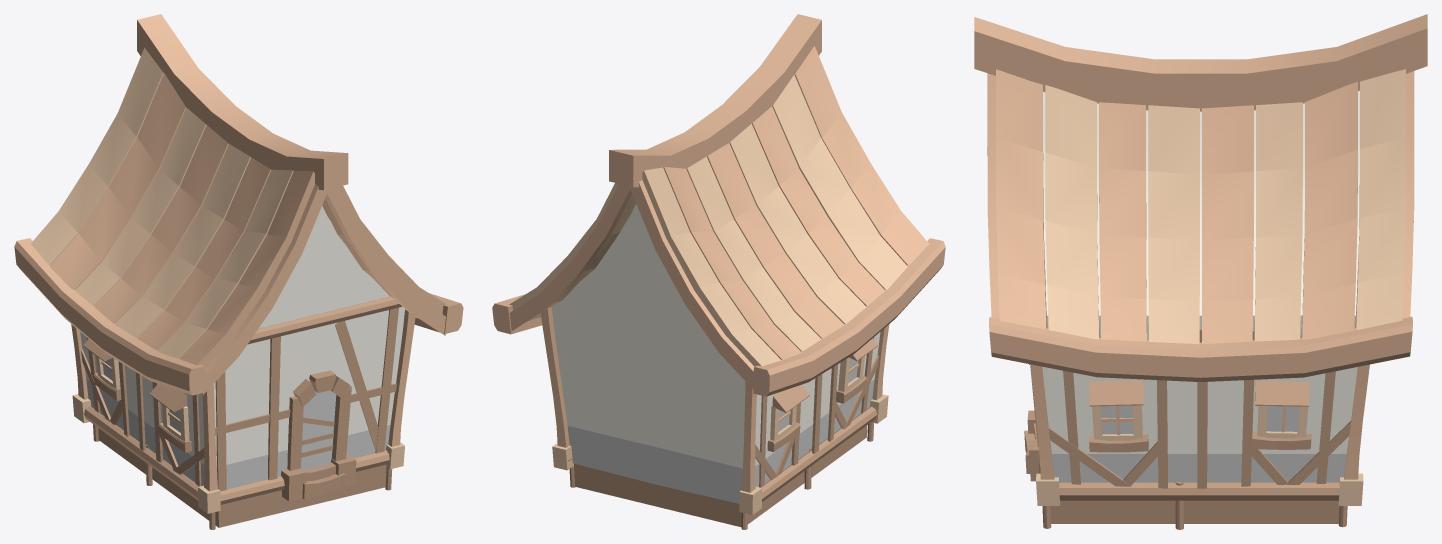
The model's file is house01level01.fbx.
3 renders of one model, left to right at view 1: azimuth 30°, elevation 25°; view 2: azimuth 150°, elevation 25°; view 3: azimuth 270°, elevation 25°, orthographic. The views are drawn at different scales.
Visible parts, largest first — view 1: part1_06, part1_03, part1_02, part1_04, part_1_01, win_01, win_02; view 2: part1_06, part1_03, part1_02, part_1_01, win_02, win_01; view 3: part1_06, part1_03, part1_02, part_1_01, win_03, win_04, part1_04.
Boxes of the visible parts, x1=… form: part1_06: x1=14, y1=14, x2=463, y2=395; part1_03: x1=80, y1=206, x2=404, y2=491; part1_02: x1=71, y1=296, x2=415, y2=513; part1_04: x1=281, y1=370, x2=356, y2=501; part_1_01: x1=93, y1=424, x2=392, y2=529; win_01: x1=149, y1=383, x2=191, y2=452; win_02: x1=83, y1=339, x2=121, y2=400; part1_06: x1=492, y1=14, x2=945, y2=396; part1_03: x1=551, y1=204, x2=880, y2=503; part1_02: x1=540, y1=307, x2=889, y2=515; part_1_01: x1=569, y1=422, x2=873, y2=529; win_02: x1=767, y1=384, x2=809, y2=451; win_01: x1=836, y1=338, x2=877, y2=403; part1_06: x1=974, y1=14, x2=1427, y2=381; part1_03: x1=1042, y1=90, x2=1359, y2=488; part1_02: x1=1030, y1=364, x2=1369, y2=505; part_1_01: x1=1042, y1=482, x2=1347, y2=529; win_03: x1=1089, y1=380, x2=1148, y2=452; win_04: x1=1252, y1=380, x2=1311, y2=449; part1_04: x1=1024, y1=364, x2=1039, y2=481.
Size of the model in its own units: 6.49 by 8.49 by 7.63.
